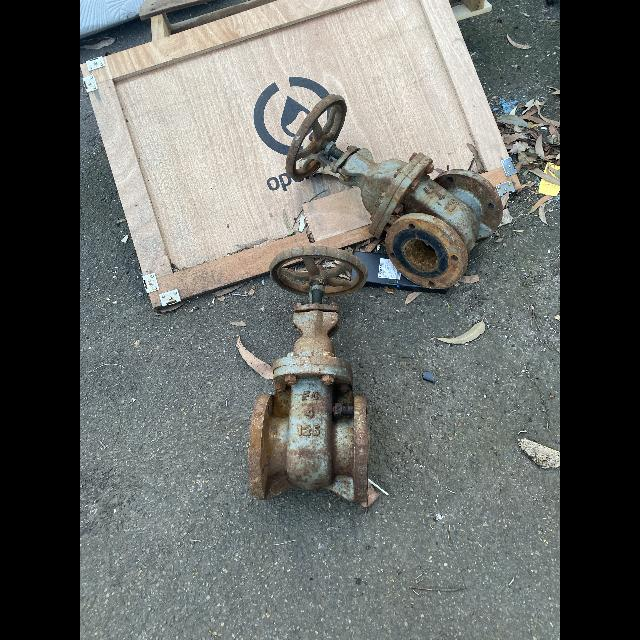Ferrous Metal: (248, 246, 370, 502), (313, 133, 503, 289), (285, 94, 347, 181), (159, 289, 181, 306), (143, 273, 159, 293), (501, 157, 517, 176), (83, 74, 98, 93), (86, 56, 105, 71), (496, 181, 515, 196)
